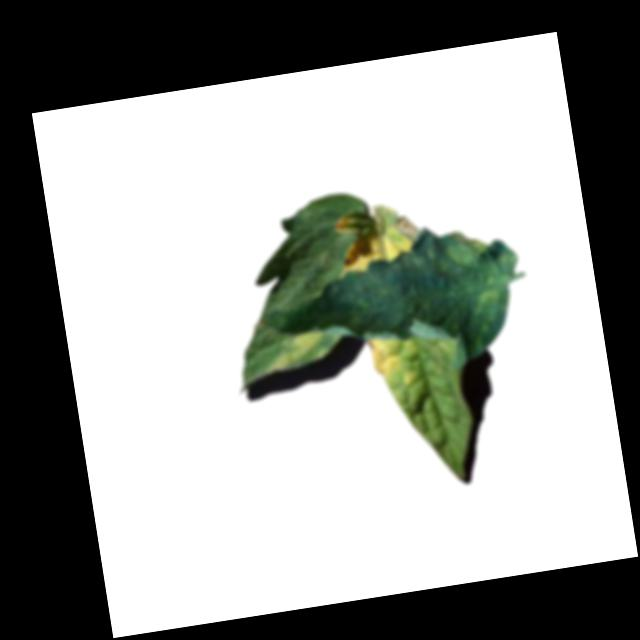Leaf_Mold: (333, 203, 415, 279), (427, 225, 493, 280), (367, 332, 422, 397), (267, 329, 333, 378)
